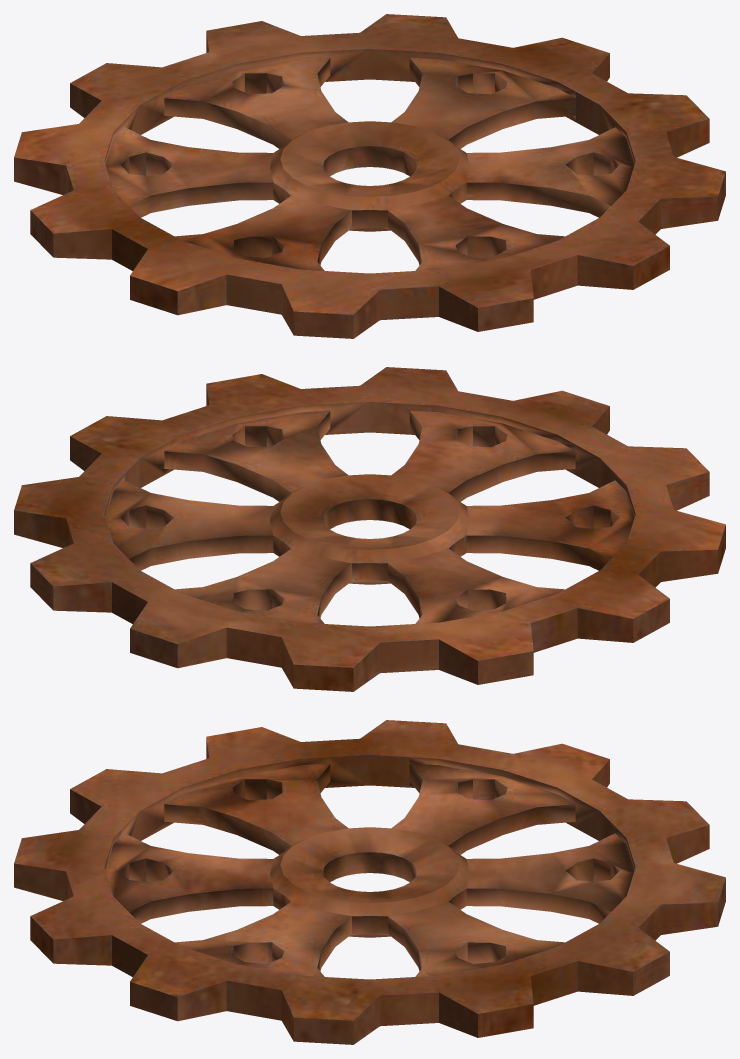
Rendered from steampunk_gear_18.glb.
The picture shows the model from 3 angles, top to bottom: view 1: azimuth 30°, elevation 25°; view 2: azimuth 150°, elevation 25°; view 3: azimuth 270°, elevation 25°; orthographic projection.
Visible parts, largest first — view 1: steampunk_gear_18; view 2: steampunk_gear_18; view 3: steampunk_gear_18.
Boxes of the visible parts, x1,y1,x2,y2 form: steampunk_gear_18: (14,14,725,338); steampunk_gear_18: (14,367,725,691); steampunk_gear_18: (14,720,725,1044).
Size of what is drawn, in the model's own units: 0.154 by 0.00831 by 0.154.
1 material, 1 textured.
